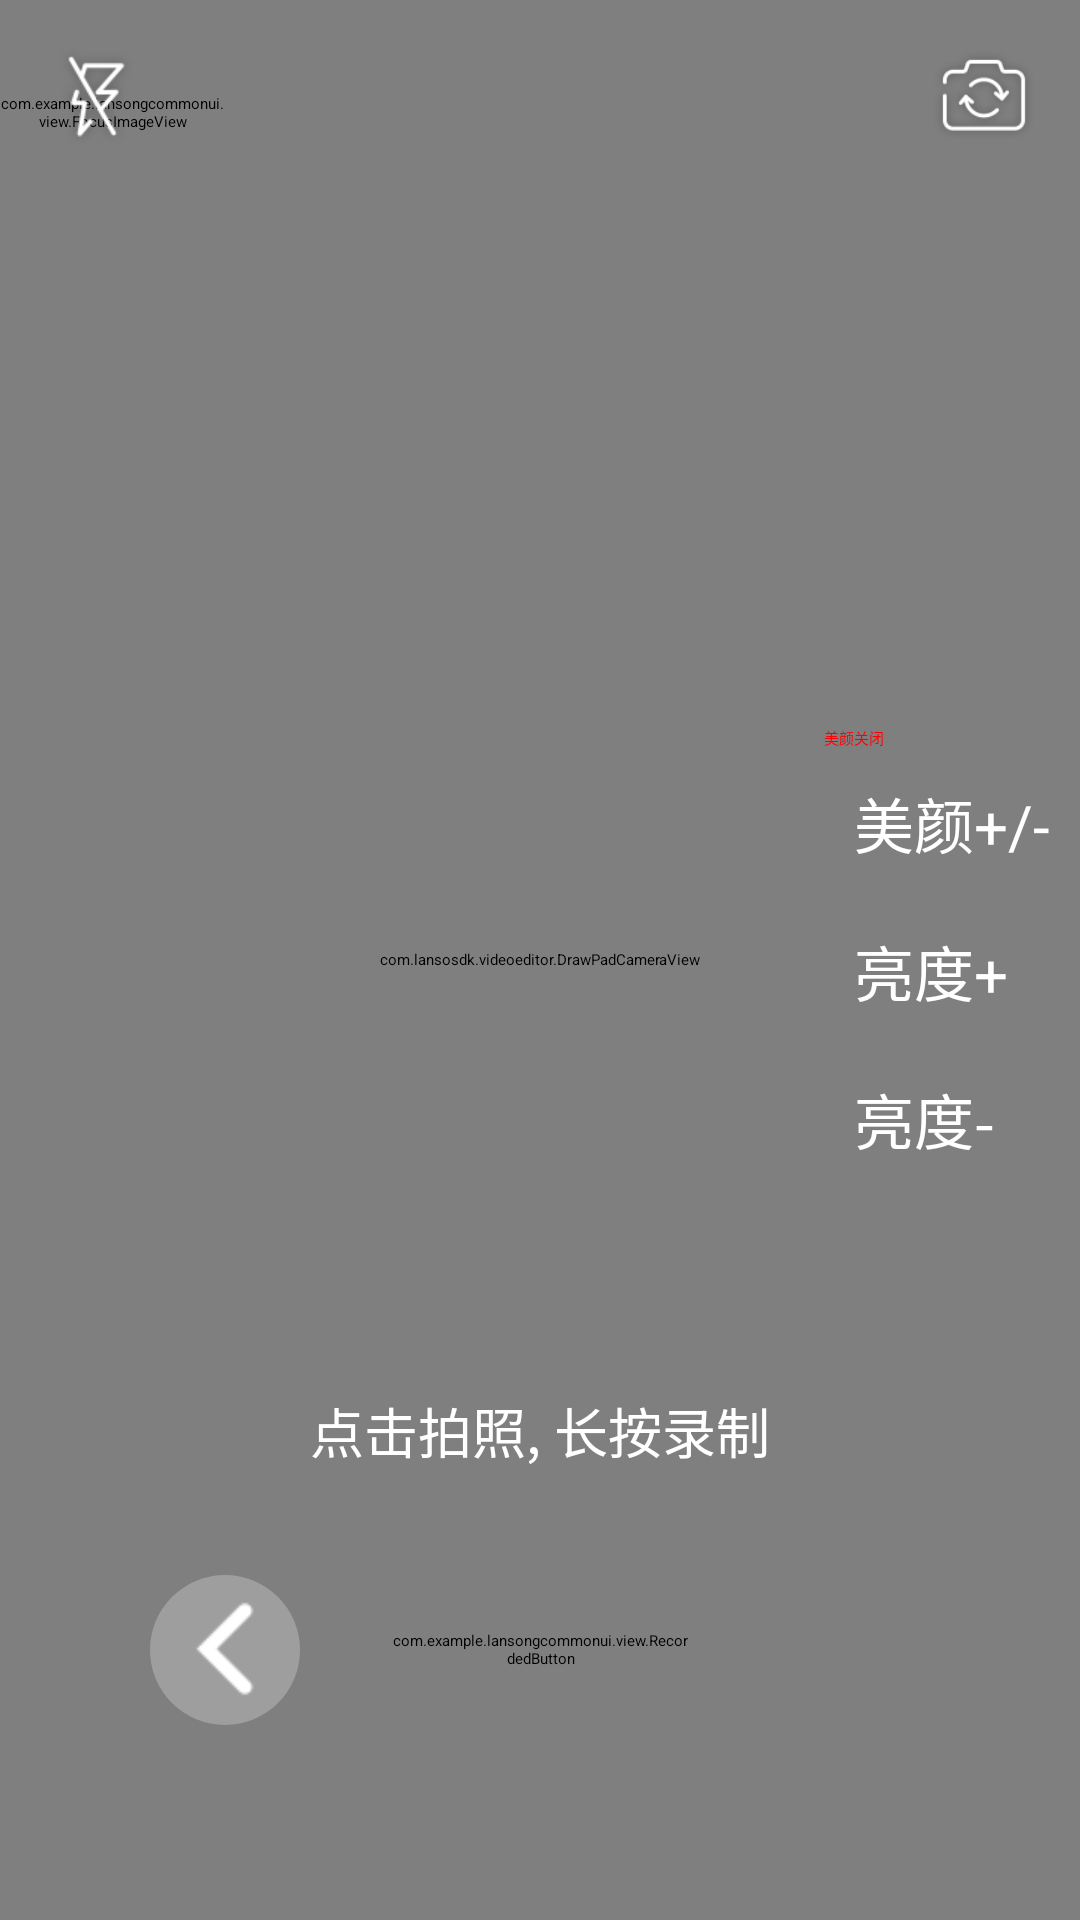

Where icons sit on this 1080 x 1920 app screen, as box=[x1, y1, x2, y2]:
back: box=[150, 1575, 300, 1725]
video camera: box=[943, 60, 1025, 131]
